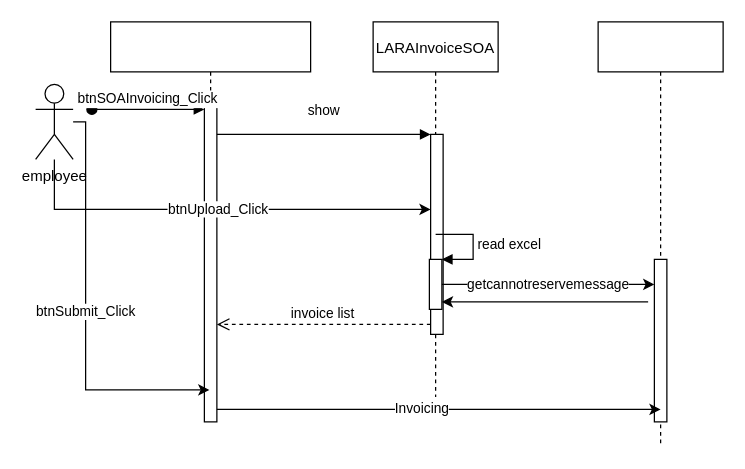
The diagram is 745 pixels wide and 469 high, and some of its shapes have lost their labels. The centre of each missing label's shape, as x and y in pixels:
"LARAInvoiceManagement.cs" goes at (210,221).
"TInvoiceBiz" goes at (660,234).
